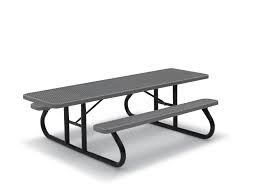obstacle: (24, 66, 219, 166)
